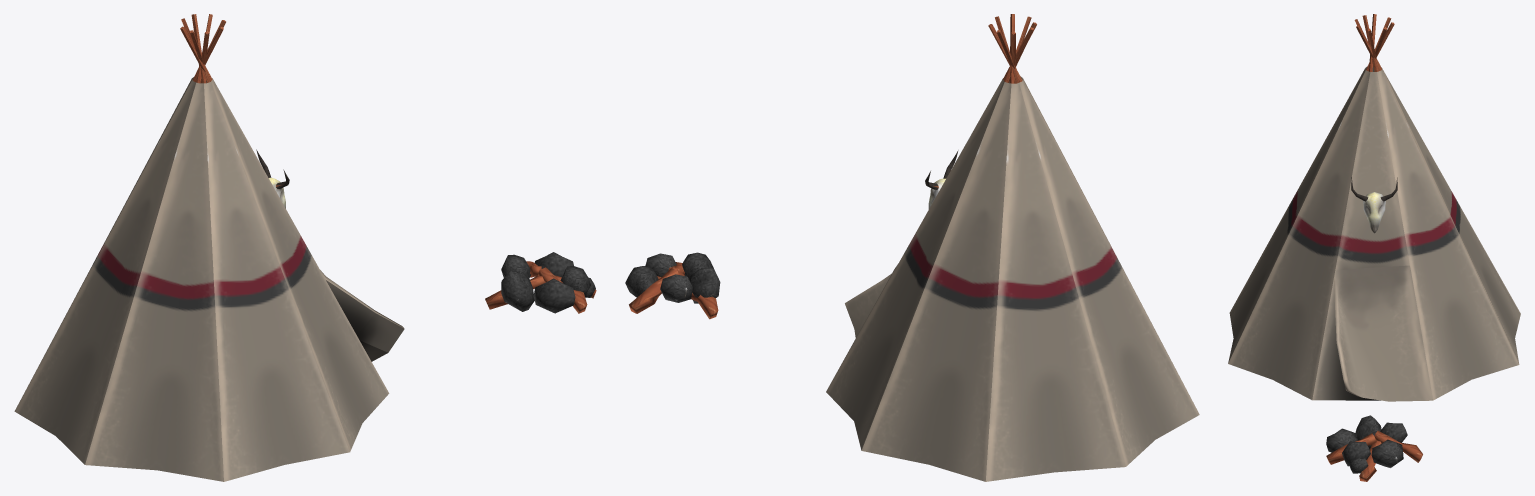
File: TiendaIndia.fbx
3 renders of one model, left to right at view 1: azimuth 30°, elevation 25°; view 2: azimuth 150°, elevation 25°; view 3: azimuth 270°, elevation 25°, orthographic. The views are drawn at different scales.
Visible parts, largest first — view 1: Tienda1, Oguera; view 2: Tienda1, Oguera; view 3: Tienda1, Oguera.
Part boxes in pixels (box(x1,y1,x2,y2)): Tienda1: box(14, 14, 404, 481); Oguera: box(485, 252, 596, 313); Tienda1: box(826, 14, 1199, 481); Oguera: box(625, 252, 720, 319); Tienda1: box(1228, 14, 1520, 401); Oguera: box(1326, 415, 1422, 481).
Size of the model in its own units: 1868 by 1258 by 1051.
